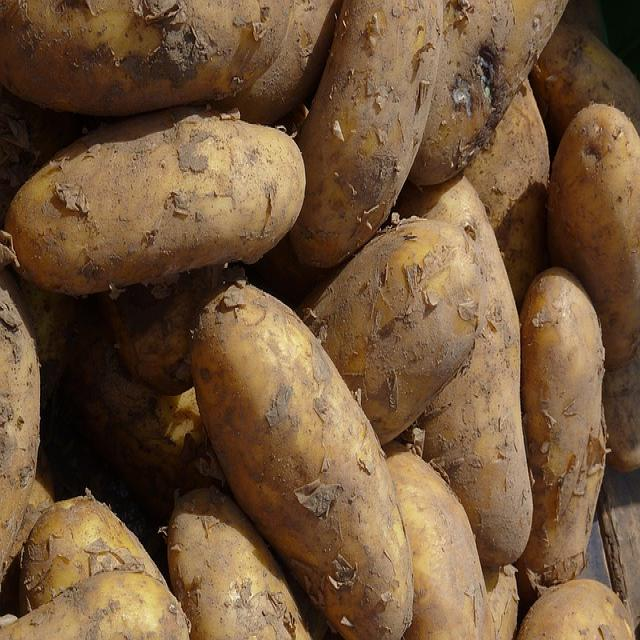Potato: (191, 282, 411, 638), (5, 108, 305, 294), (396, 175, 532, 566), (300, 220, 486, 442), (289, 0, 442, 268), (519, 268, 606, 592), (549, 103, 640, 369), (168, 487, 310, 638), (386, 443, 494, 638)
